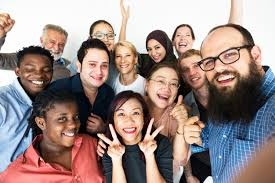person: (199, 24, 273, 161), (19, 89, 107, 177), (62, 41, 119, 121)
